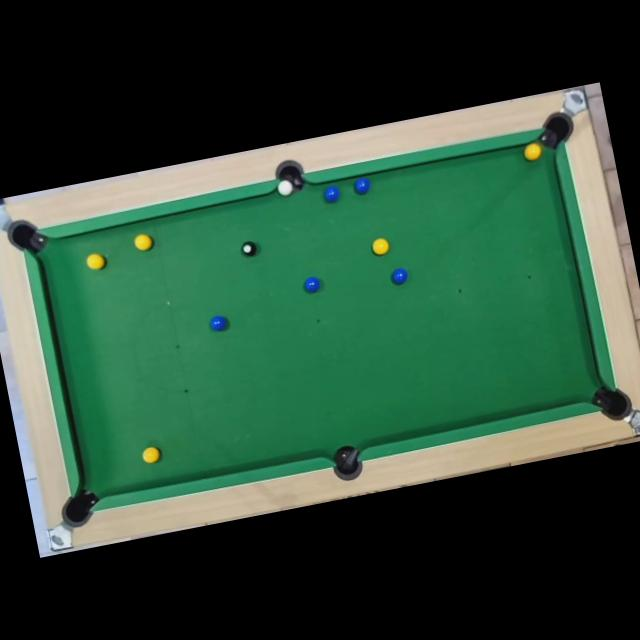Ball: (140, 446, 160, 466), (85, 253, 106, 272), (133, 233, 153, 252), (353, 177, 372, 196), (523, 142, 542, 161), (322, 186, 341, 205), (302, 276, 322, 294), (209, 314, 227, 333), (390, 268, 409, 286), (372, 238, 391, 256), (240, 240, 258, 258), (276, 179, 294, 197)
